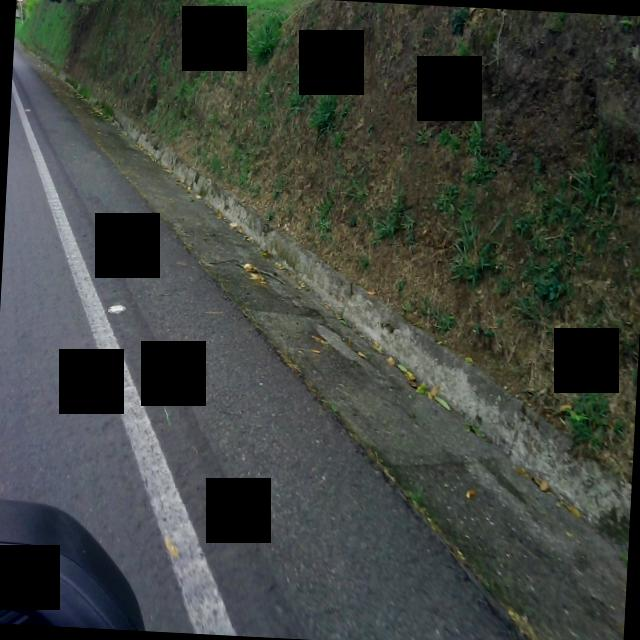DITCH: (0, 35, 640, 640), (0, 95, 640, 640)
